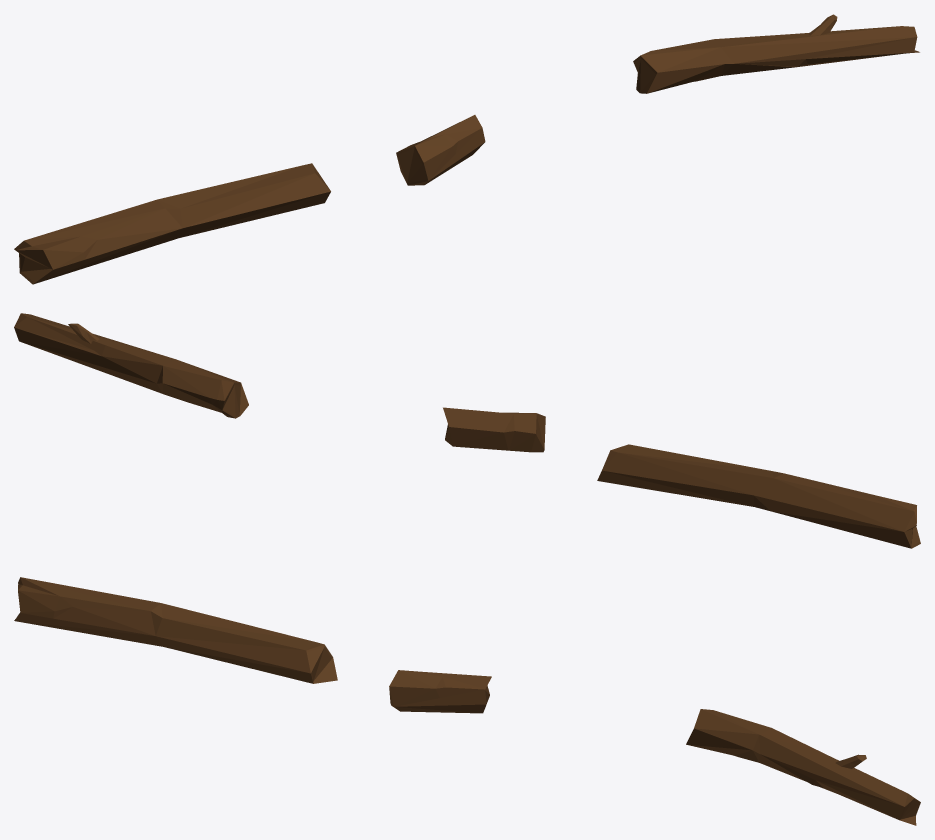
The model's file is tree-birch-fallen-a.gltf.
3 views of the same model, one above another, from view 1: azimuth 30°, elevation 25°; view 2: azimuth 150°, elevation 25°; view 3: azimuth 330°, elevation 25° (orthographic).
Visible parts, largest first — view 1: tree-birch-fallen-a; view 2: tree-birch-fallen-a; view 3: tree-birch-fallen-a.
Part boxes in pixels (<box>): tree-birch-fallen-a: <box>14,14,919,284</box>; tree-birch-fallen-a: <box>14,313,920,548</box>; tree-birch-fallen-a: <box>14,577,920,825</box>.
Size of the model in its own units: 0.0549 by 0.00252 by 0.00634.
